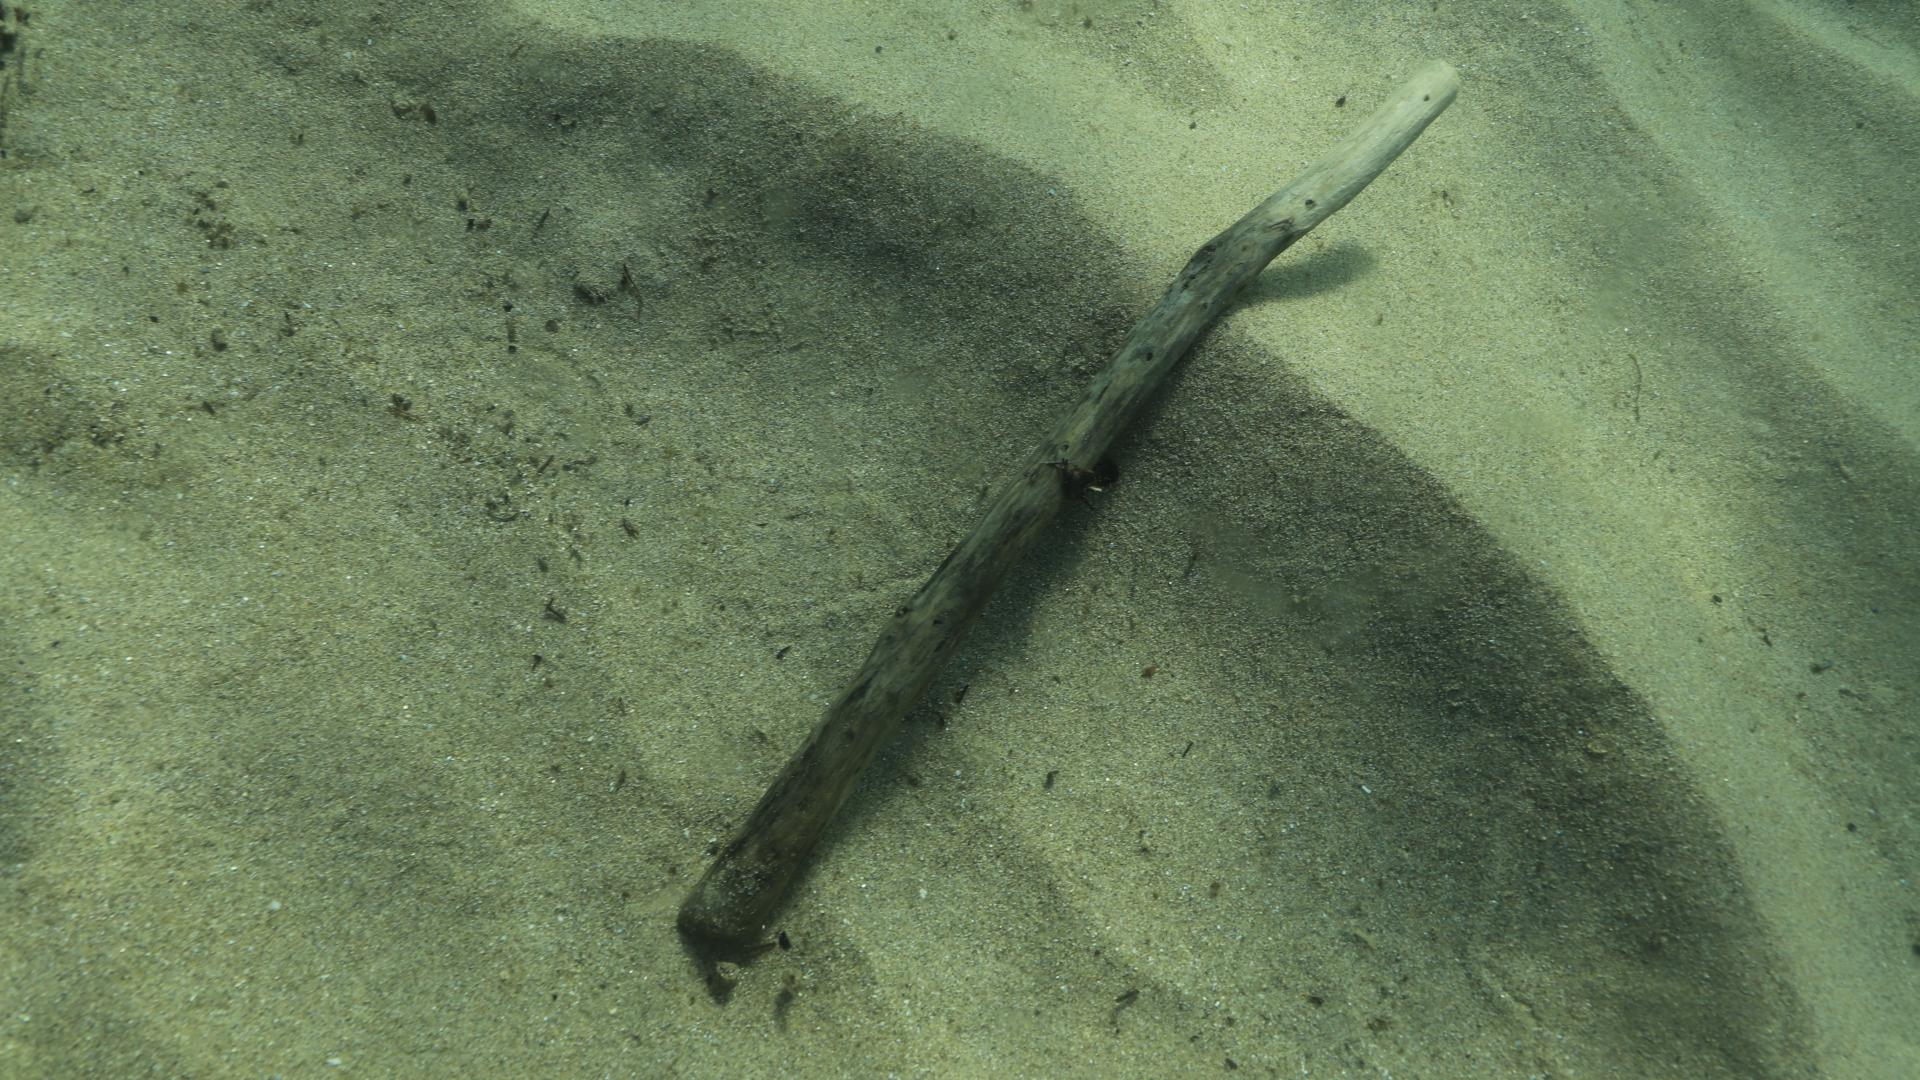wood: (675, 58, 1460, 957)
